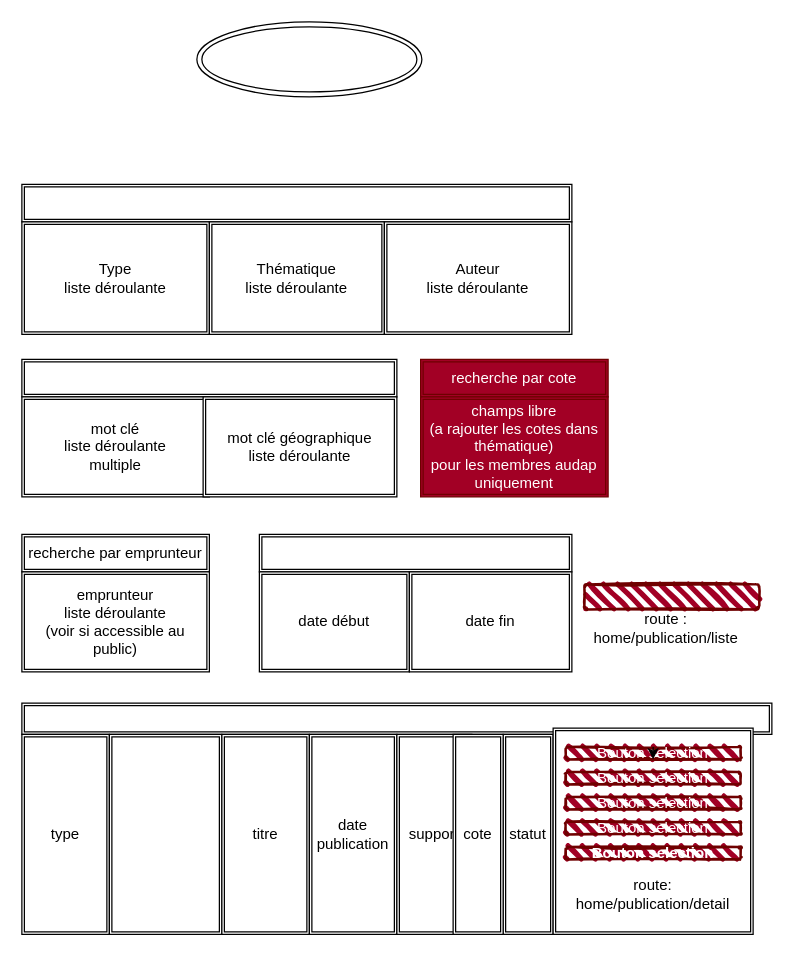
Image size: 794x956. Some labels were removed from this diagram. The shapes that lost their labels are listed below. From the top down, each one's centre as x and y in pixels, then its label:
At [309,59]: "route : home/publication/recherche".
At [296,202]: "recherche par critères".
At [209,377]: "recherche par mot clé".
At [415,552]: "recherche par date de publication".
At [671,596]: "Bouton recherche".
At [396,718]: "Liste ouvrages".
At [165,833]: "thématique".
